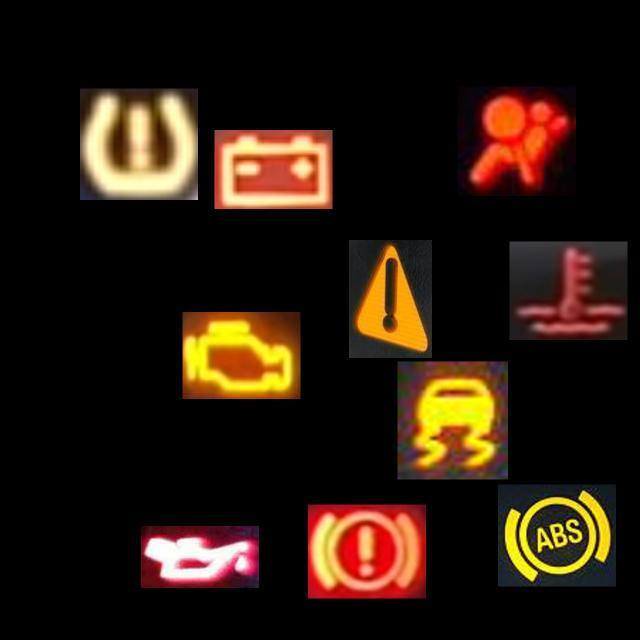Central Warning lamp: (349, 240, 432, 358)
Engine cooling system: (510, 242, 628, 341)
